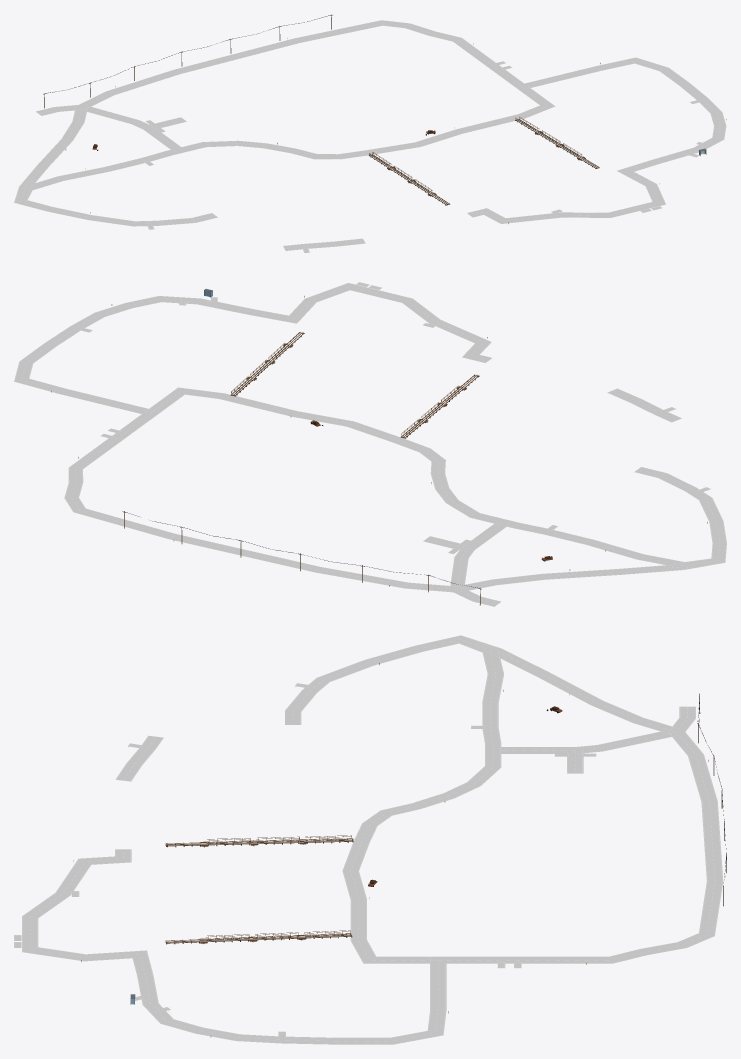
File: tf-roads-p3.glb
3 views of the same model, one above another, from view 1: azimuth 30°, elevation 25°; view 2: azimuth 150°, elevation 25°; view 3: azimuth 270°, elevation 25° (orthographic). The views are drawn at different scales.
Parts seen in each view (by area): view 1: tf-roads-p3; view 2: tf-roads-p3; view 3: tf-roads-p3.
Boxes of the visible parts, bbox=[...] form: tf-roads-p3: bbox=[14, 14, 726, 253]; tf-roads-p3: bbox=[14, 282, 726, 606]; tf-roads-p3: bbox=[14, 635, 726, 1044].
Bounding box in the file's own units: 354 × 8.2 × 260.
